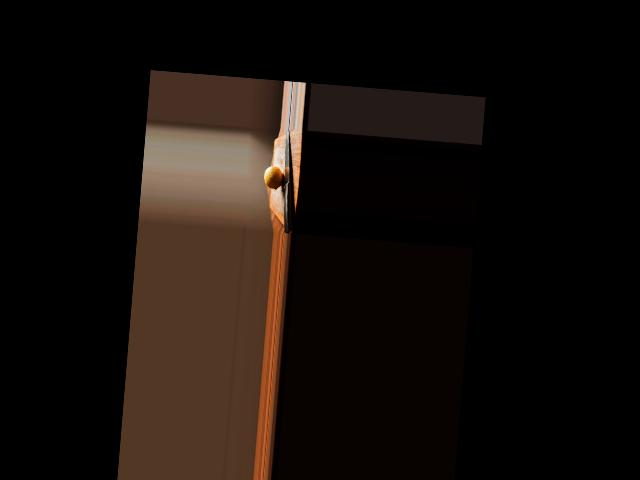lemon: (261, 164, 283, 191)
